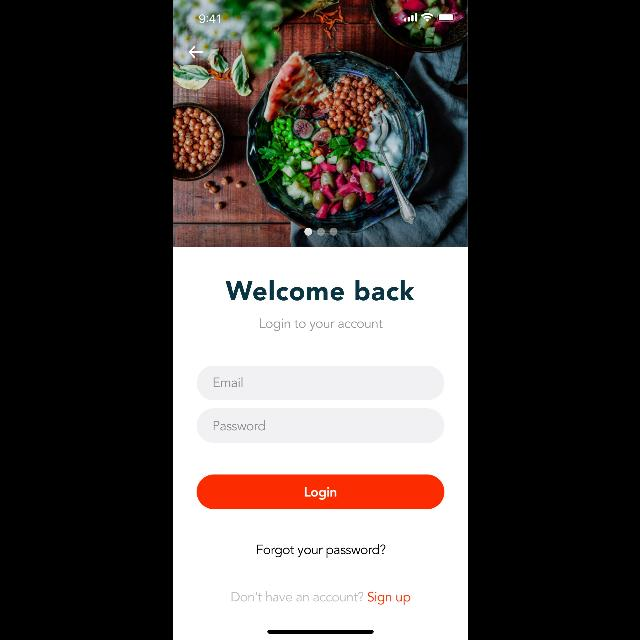icon: (188, 46, 202, 59)
image: (172, 1, 468, 248)
input: (196, 366, 444, 400), (196, 409, 444, 443)
pageindicator: (304, 228, 336, 236)
text: (224, 280, 413, 300), (230, 591, 410, 605), (256, 544, 386, 558), (260, 318, 382, 332), (213, 420, 265, 430), (212, 377, 242, 387)
textbutton: (196, 474, 444, 510)
uppertaskbar: (198, 12, 456, 24)
